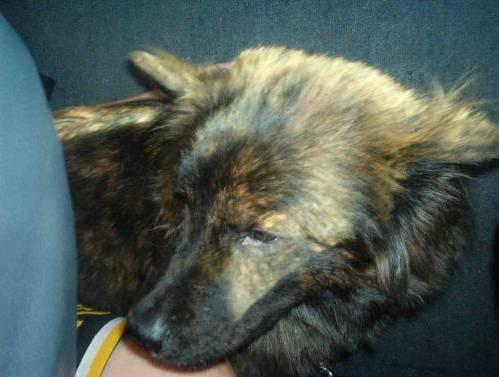dog: (54, 46, 498, 376)
